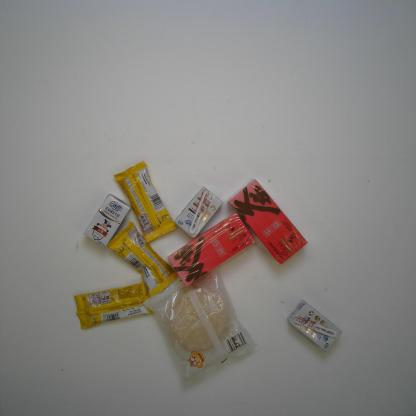Chocolate: (106, 221, 179, 297), (112, 159, 178, 243), (73, 281, 158, 330)
Dessert: (143, 267, 257, 387)
Instant Drink: (227, 178, 308, 266), (167, 212, 255, 287)
Milk: (288, 299, 342, 352), (83, 194, 130, 249), (175, 186, 222, 238)
